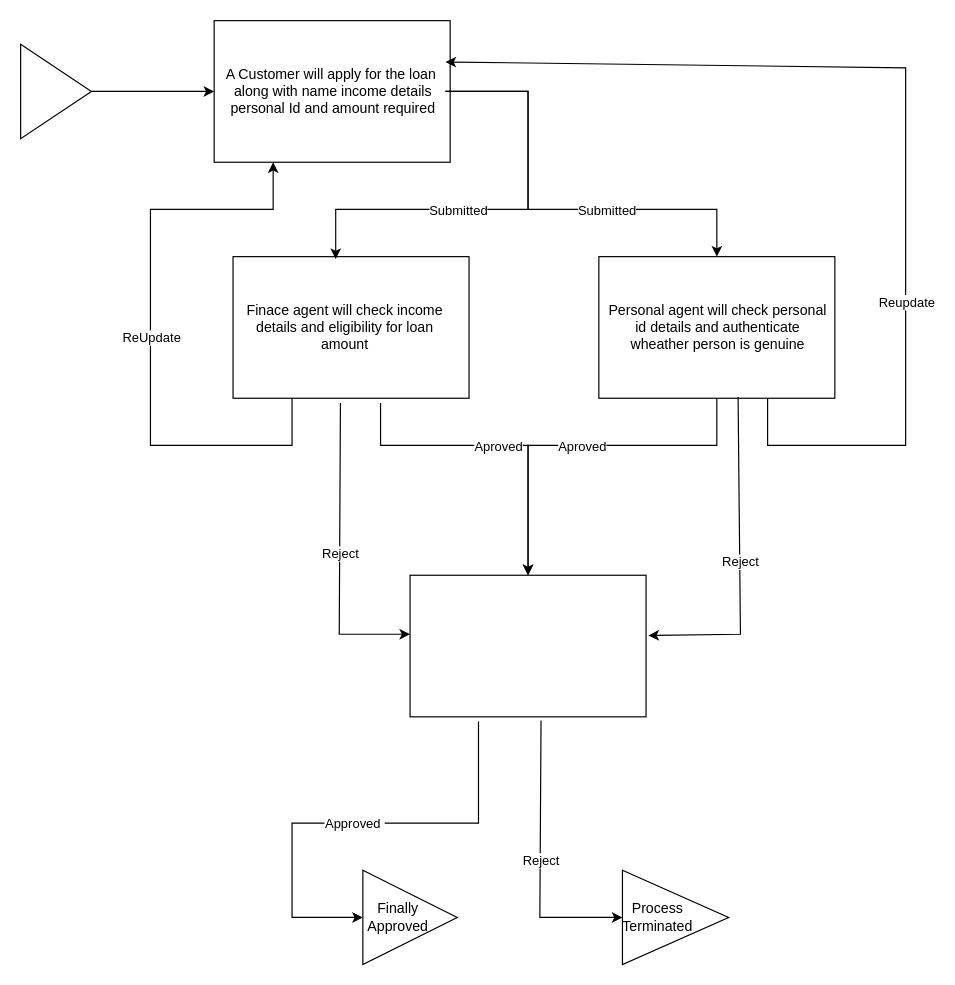
This 955x985 diagram has some shape labels left out. Here are the shapes that lost their labels. From the top down, the centre of each, then its label:
At (x=55, y=91): "Start".
At (x=527, y=645): "A Loan manager will finally approve the loan or reject the loan".
